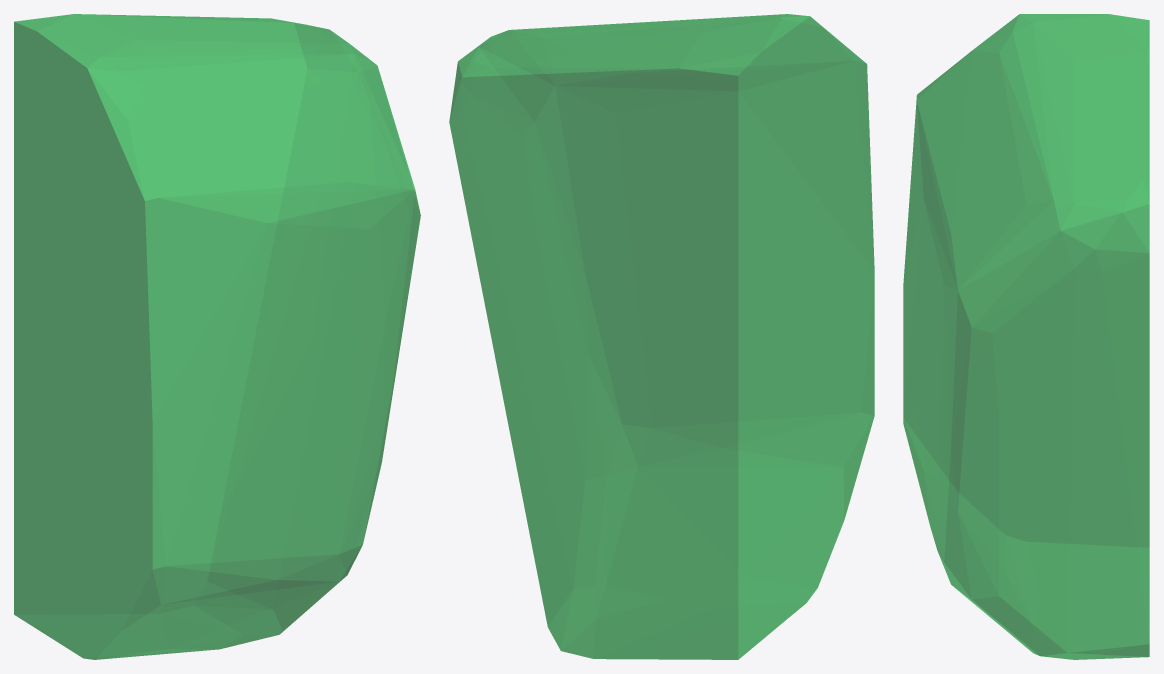
The picture shows the model from 3 angles, left to right: view 1: azimuth 30°, elevation 25°; view 2: azimuth 150°, elevation 25°; view 3: azimuth 270°, elevation 25°; orthographic projection. The views are drawn at different scales.
Visible parts, largest first — view 1: Shape_IndexedFaceSet.001_Shape_IndexedFaceSet.1477; view 2: Shape_IndexedFaceSet.001_Shape_IndexedFaceSet.1477; view 3: Shape_IndexedFaceSet.001_Shape_IndexedFaceSet.1477.
Boxes of the visible parts, x1=… form: Shape_IndexedFaceSet.001_Shape_IndexedFaceSet.1477: x1=14, y1=14, x2=420, y2=659; Shape_IndexedFaceSet.001_Shape_IndexedFaceSet.1477: x1=449, y1=14, x2=874, y2=659; Shape_IndexedFaceSet.001_Shape_IndexedFaceSet.1477: x1=903, y1=14, x2=1149, y2=659.
Bounding box in the file's own units: 0.024 × 0.0465 × 0.0184.
